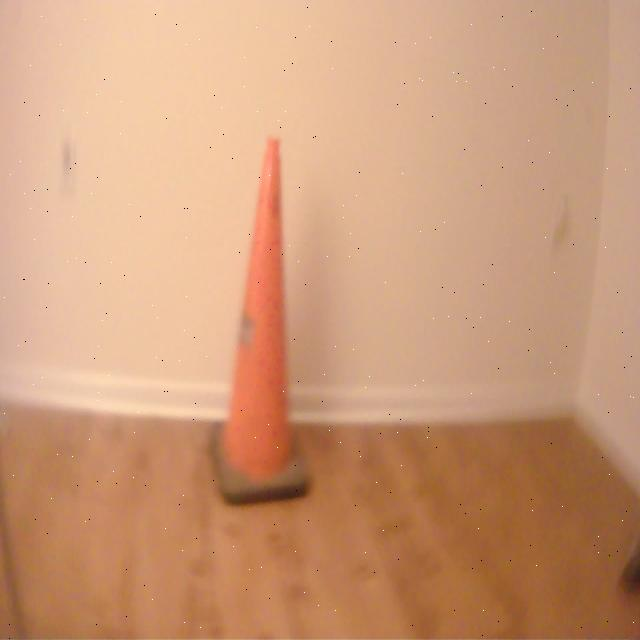traffic cone: (207, 129, 313, 523)
